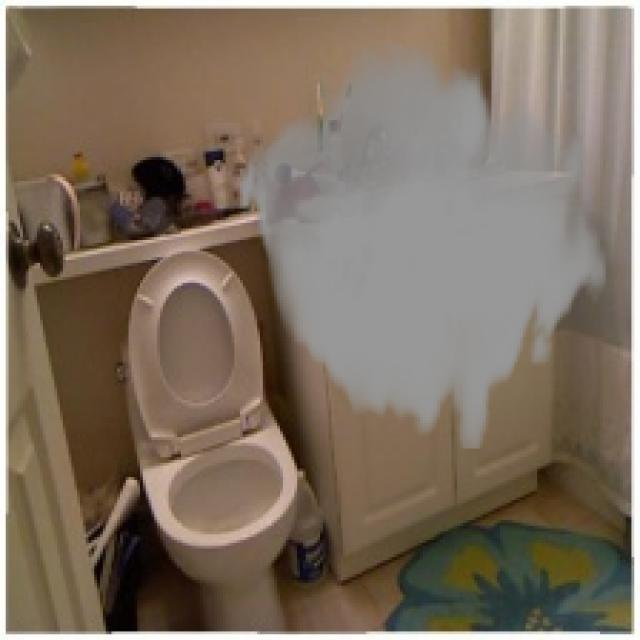Smoke: (237, 42, 609, 448)
